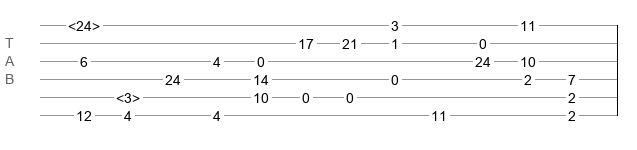0: (257, 54, 265, 64), (302, 90, 310, 100), (346, 90, 354, 100), (391, 72, 399, 82), (479, 36, 487, 46)
1: (391, 36, 399, 46)
10: (253, 90, 269, 100), (520, 54, 536, 64)
11: (431, 108, 447, 118), (520, 18, 536, 28)
12: (76, 108, 92, 118)
14: (253, 72, 269, 82)
17: (298, 36, 314, 46)
2: (524, 72, 532, 82), (568, 108, 576, 118), (568, 90, 576, 100)
21: (342, 36, 358, 46)
24: (165, 72, 181, 82), (475, 54, 491, 64)
3: (391, 18, 399, 28)
4: (124, 108, 132, 118), (213, 108, 221, 118), (213, 54, 221, 64)
6: (80, 54, 88, 64)
7: (568, 72, 576, 82)
harmonic: (68, 18, 100, 28), (116, 90, 140, 100)
